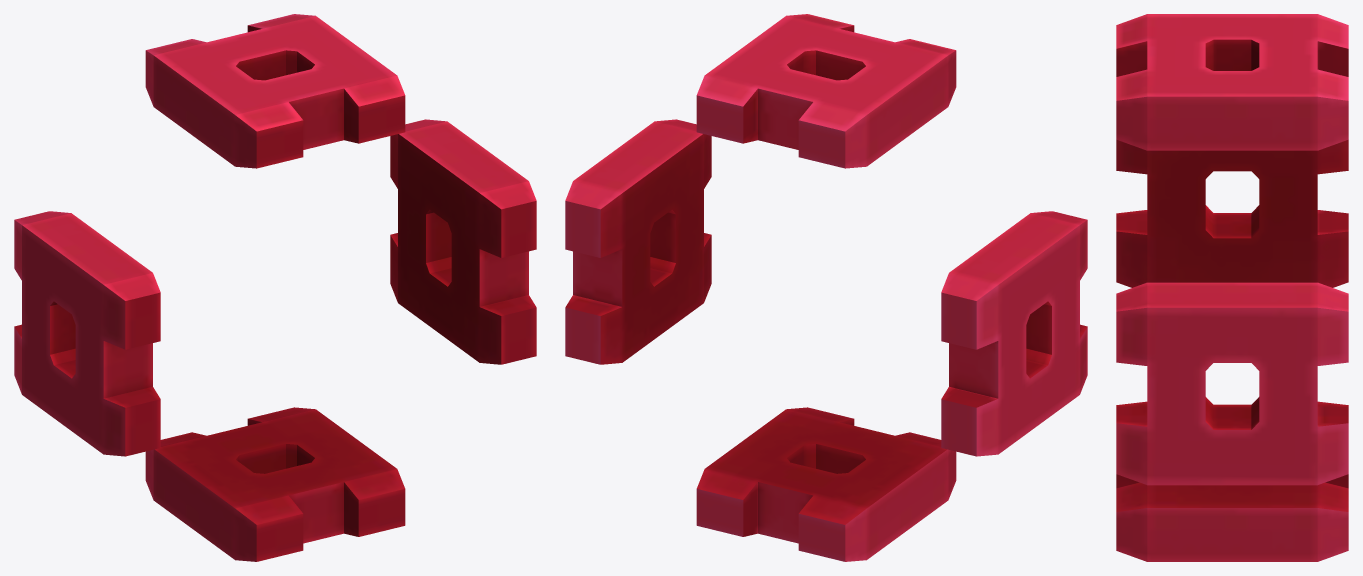
File: BottomBlocks.fbx
3 views of the same model, side by side, from view 1: azimuth 30°, elevation 25°; view 2: azimuth 150°, elevation 25°; view 3: azimuth 270°, elevation 25° (orthographic). The views are drawn at different scales.
Visible parts, largest first — view 1: BottomBlocks; view 2: BottomBlocks; view 3: BottomBlocks.
Part boxes in pixels (x1,y1,x2,y2): BottomBlocks: (14, 14, 536, 561); BottomBlocks: (565, 14, 1087, 561); BottomBlocks: (1116, 14, 1348, 561).
Size of the model in its own units: 112 by 112 by 50.68.
